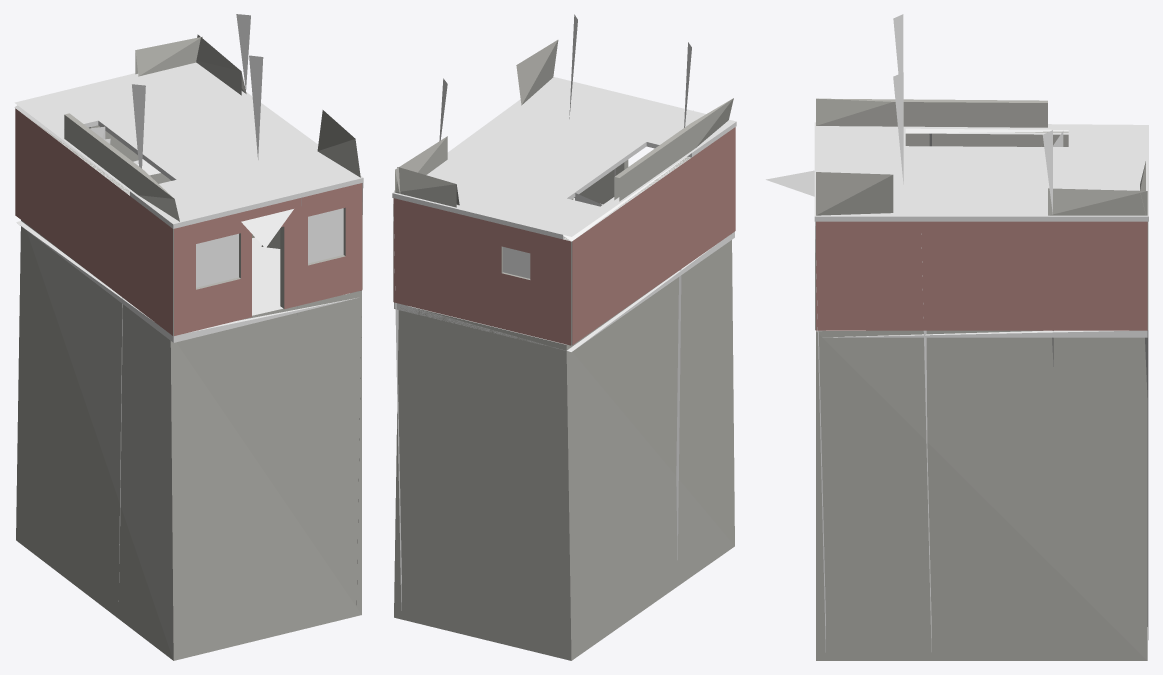
3 views of the same model, side by side, from view 1: azimuth 30°, elevation 25°; view 2: azimuth 150°, elevation 25°; view 3: azimuth 270°, elevation 25° (orthographic). The views are drawn at different scales.
Visible parts, largest first — view 1: F_35; view 2: F_35; view 3: F_35.
Part boxes in pixels (x1=…): F_35: x1=14, y1=14, x2=363, y2=660; F_35: x1=392, y1=14, x2=736, y2=660; F_35: x1=766, y1=14, x2=1148, y2=660.
Bounding box in the file's own units: 5.06 × 13.83 × 8.68.
